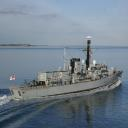Fragata: (10, 35, 125, 103)
